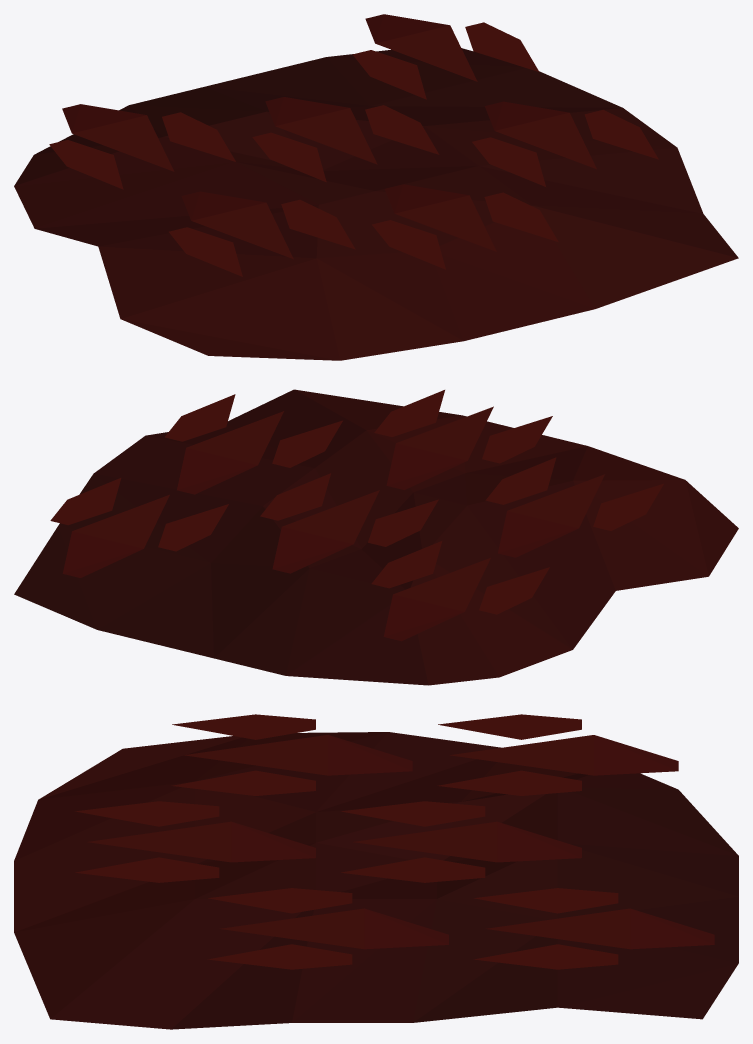
The model's file is red-dhide.obj.
The picture shows the model from 3 angles, top to bottom: view 1: azimuth 30°, elevation 25°; view 2: azimuth 150°, elevation 25°; view 3: azimuth 270°, elevation 25°; orthographic projection. The views are drawn at different scales.
Parts seen in each view (by area): view 1: Item Red dragonhide 2026-10-18_17-01-43; view 2: Item Red dragonhide 2026-10-18_17-01-43; view 3: Item Red dragonhide 2026-10-18_17-01-43.
Part boxes in pixels (x1,y1,x2,y2): Item Red dragonhide 2026-10-18_17-01-43: (14, 14, 738, 360); Item Red dragonhide 2026-10-18_17-01-43: (14, 389, 738, 685); Item Red dragonhide 2026-10-18_17-01-43: (14, 714, 738, 1029).
Size of the model in its own units: 61 by 5 by 60.
